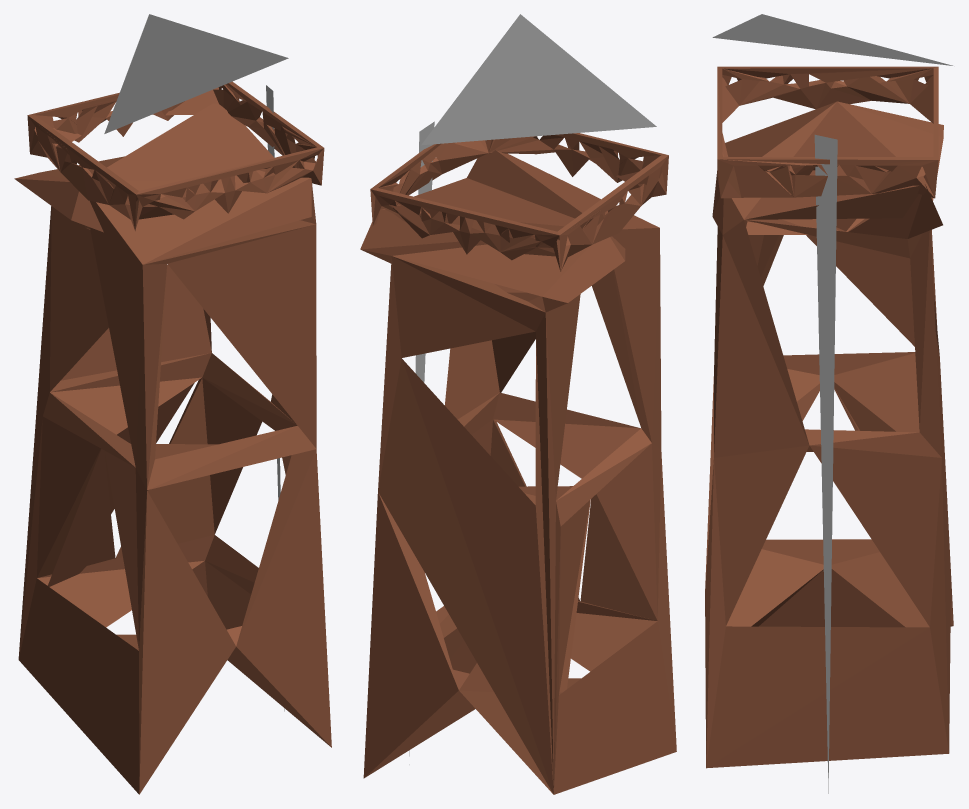
File: WaterTower.lod3.glb
3 views of the same model, side by side, from view 1: azimuth 30°, elevation 25°; view 2: azimuth 150°, elevation 25°; view 3: azimuth 270°, elevation 25° (orthographic).
Visible parts, largest first — view 1: WaterTower; view 2: WaterTower; view 3: WaterTower.
Part boxes in pixels (x1,y1,x2,y2): WaterTower: [14, 14, 331, 794]; WaterTower: [360, 14, 676, 794]; WaterTower: [705, 14, 953, 793].
Size of the model in its own units: 2.43 by 7.8 by 2.42.
